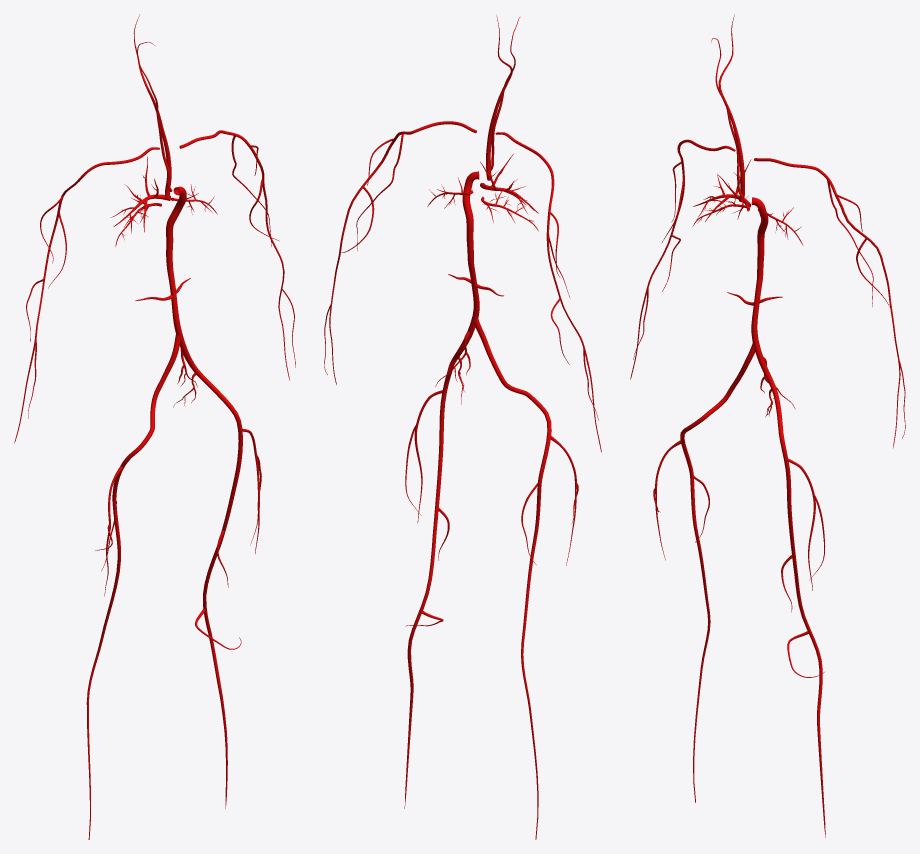
Rendered from Artery.fbx.
The picture shows the model from 3 angles, left to right: view 1: azimuth 30°, elevation 25°; view 2: azimuth 150°, elevation 25°; view 3: azimuth 330°, elevation 25°; orthographic projection.
Parts seen in each view (by area): view 1: Descending_aorta, External_ilaic_Artery, Pulmnary_arteries, R_Axillary_Artery, L_Axillary_Artery, External_Carotid_Artery; view 2: Descending_aorta, External_ilaic_Artery, Pulmnary_arteries, L_Axillary_Artery, R_Axillary_Artery, External_Carotid_Artery; view 3: Descending_aorta, External_ilaic_Artery, L_Axillary_Artery, Pulmnary_arteries, R_Axillary_Artery, External_Carotid_Artery.
Part boxes in pixels (x1,y1,x2,y2): Descending_aorta: [166, 186, 242, 808]; External_ilaic_Artery: [86, 334, 180, 839]; Pulmnary_arteries: [110, 156, 217, 246]; R_Axillary_Artery: [14, 147, 159, 443]; L_Axillary_Artery: [179, 130, 289, 380]; External_Carotid_Artery: [133, 14, 171, 197]; Descending_aorta: [404, 171, 479, 808]; External_ilaic_Artery: [472, 318, 551, 839]; Pulmnary_arteries: [427, 154, 538, 231]; L_Axillary_Artery: [329, 121, 476, 384]; R_Axillary_Artery: [495, 132, 601, 452]; External_Carotid_Artery: [486, 15, 512, 180]; Descending_aorta: [751, 197, 825, 837]; External_ilaic_Artery: [680, 343, 754, 802]; L_Axillary_Artery: [754, 158, 900, 447]; Pulmnary_arteries: [692, 159, 803, 245]; R_Axillary_Artery: [630, 139, 735, 379]; External_Carotid_Artery: [718, 14, 744, 202].
Bounding box in the file's own units: 59.98 × 168 × 19.13.
